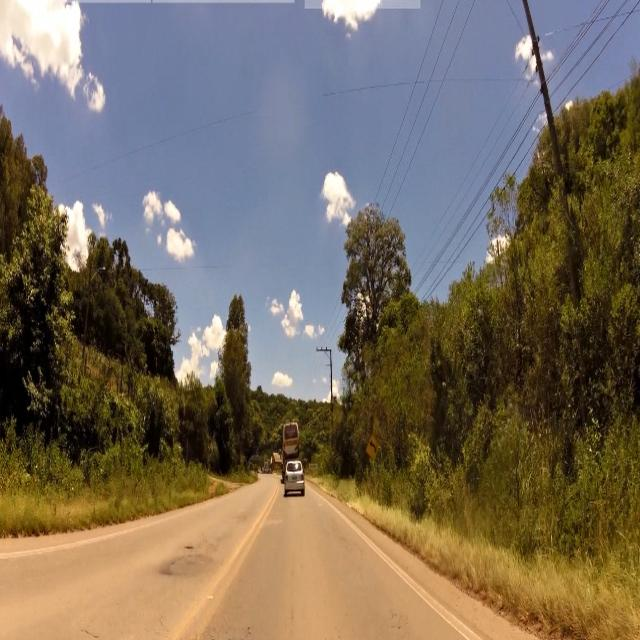A-2b: (368, 433, 378, 458)
